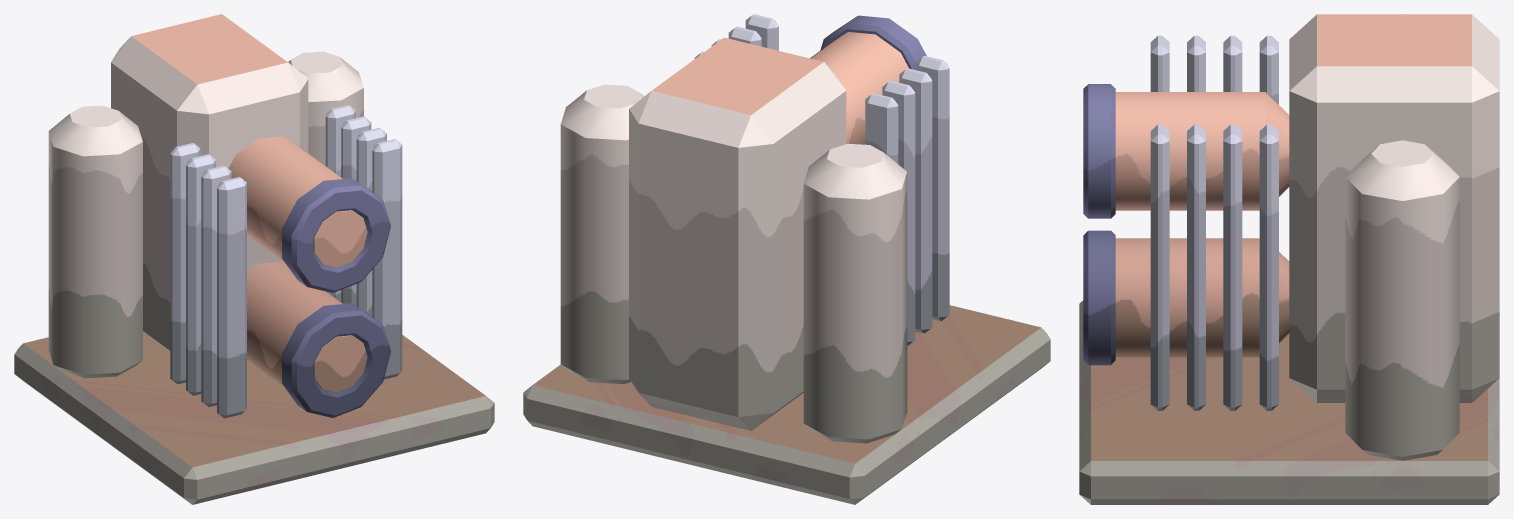
File: R4X_DoubleShotOverdrive_LOD1.glb
3 views of the same model, side by side, from view 1: azimuth 30°, elevation 25°; view 2: azimuth 150°, elevation 25°; view 3: azimuth 270°, elevation 25° (orthographic). The views are drawn at different scales.
Visible parts, largest first — view 1: R4X_DoubleShotOverdrive_LOD1; view 2: R4X_DoubleShotOverdrive_LOD1; view 3: R4X_DoubleShotOverdrive_LOD1.
Part boxes in pixels (box(x1,y1,x2,y2)): R4X_DoubleShotOverdrive_LOD1: box(14, 14, 494, 504); R4X_DoubleShotOverdrive_LOD1: box(523, 14, 1050, 504); R4X_DoubleShotOverdrive_LOD1: box(1079, 14, 1499, 504).
Size of the model in its own units: 0.52 by 0.52 by 0.52.
Materials: 5 (4 with a texture image).
